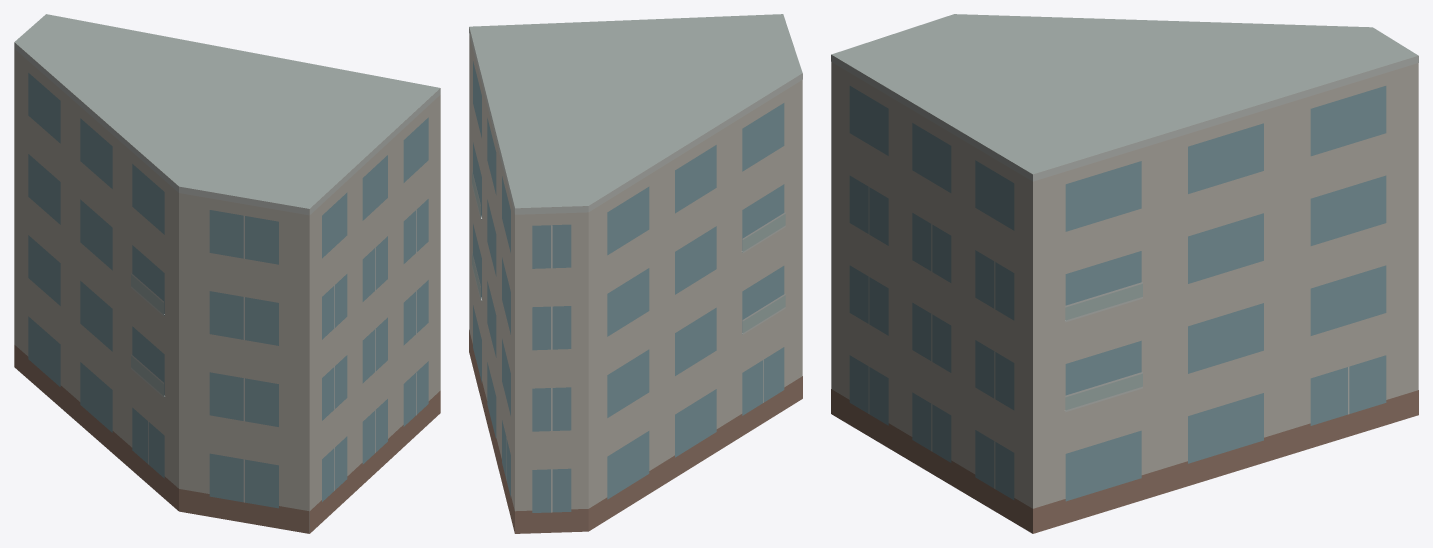
File: survey-upis-32584236.glb
3 renders of one model, left to right at view 1: azimuth 30°, elevation 25°; view 2: azimuth 150°, elevation 25°; view 3: azimuth 270°, elevation 25°, orthographic. The views are drawn at different scales.
Parts seen in each view (by area): view 1: survey-upis-32584236.tmp; view 2: survey-upis-32584236.tmp; view 3: survey-upis-32584236.tmp.
Part boxes in pixels (x1=…): survey-upis-32584236.tmp: x1=14, y1=14, x2=440, y2=533; survey-upis-32584236.tmp: x1=469, y1=14, x2=802, y2=533; survey-upis-32584236.tmp: x1=831, y1=14, x2=1418, y2=533.
Bounding box in the file's own units: 11.69 × 12.2 × 18.08.
